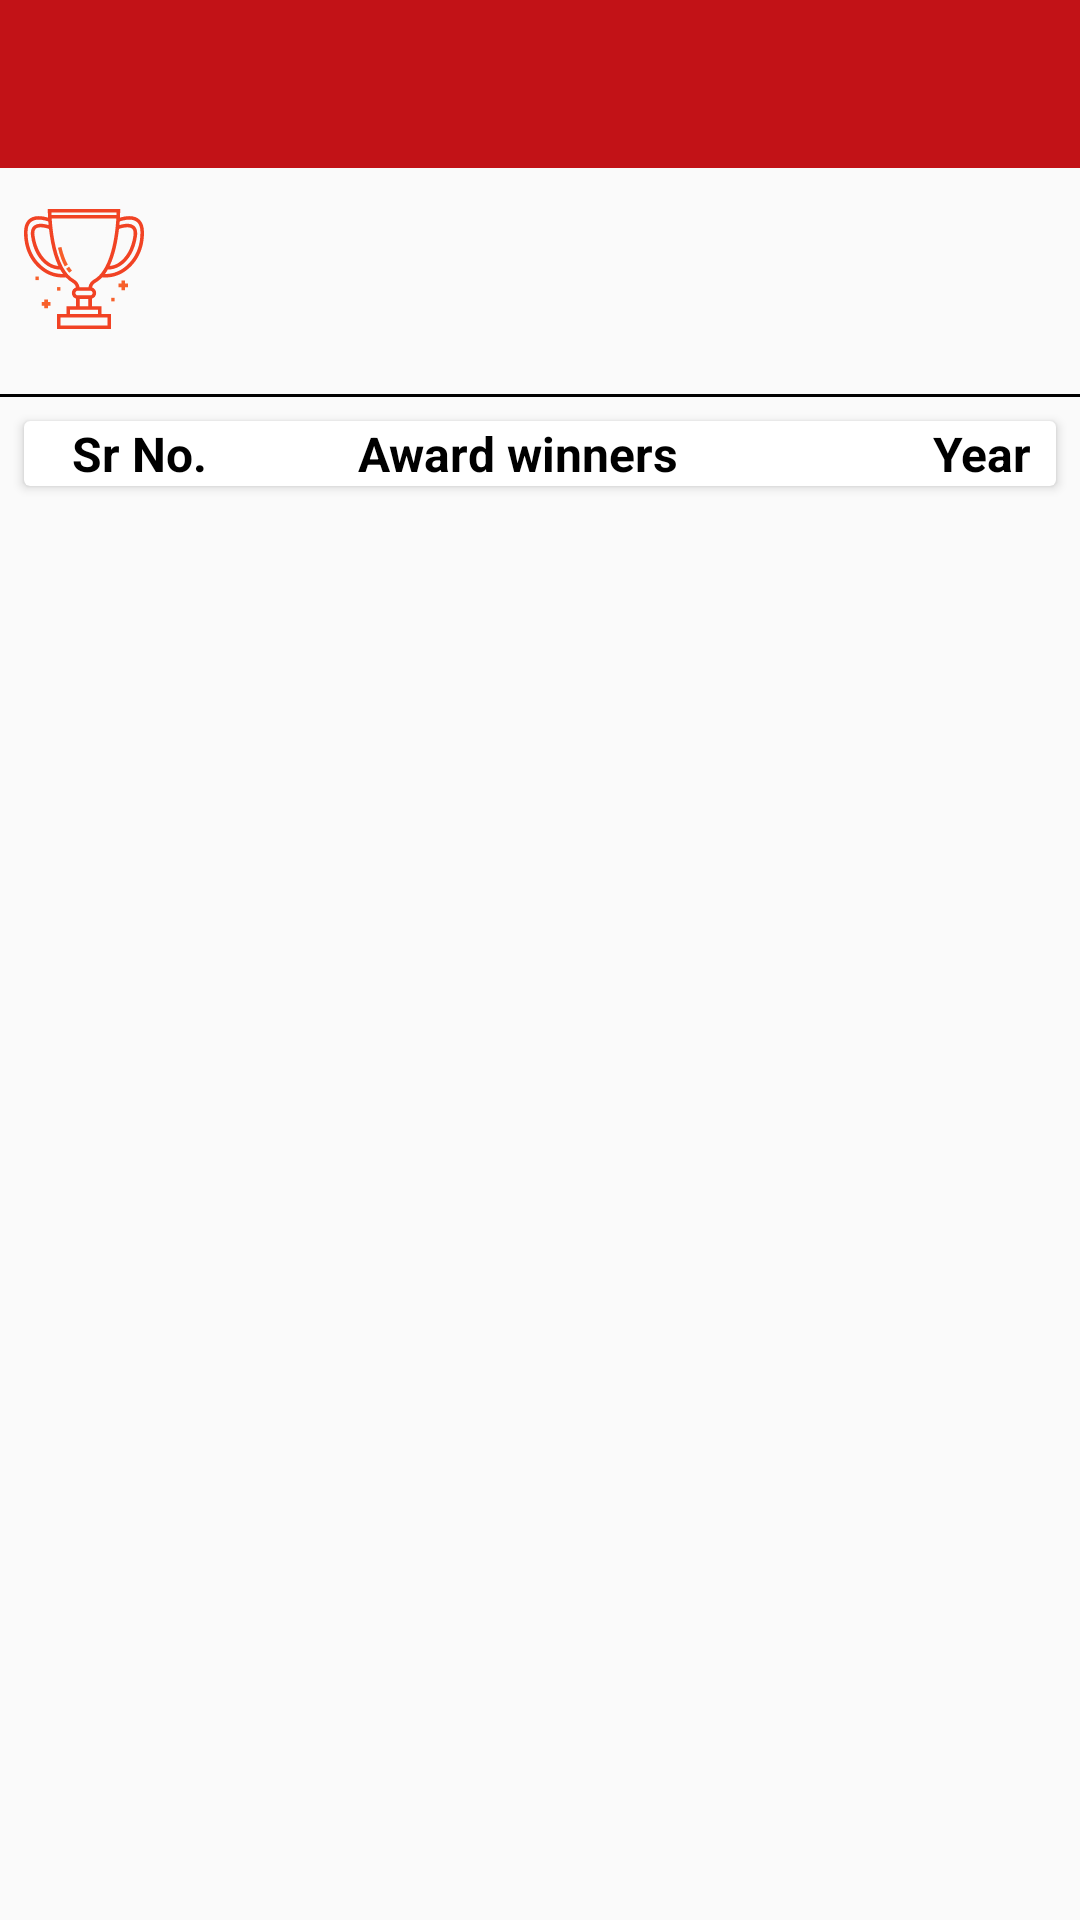

Icons on this 1080 × 1920 Android screen, each with its box as bbox=(x1, y1, x2, y2):
awards: bbox=(24, 209, 144, 329)
